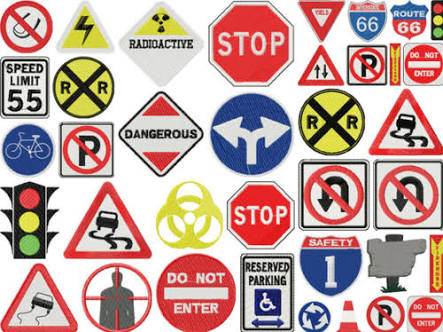55mph: (4, 62, 47, 115)
66mph: (345, 1, 386, 37)
danger: (120, 92, 204, 170)
no parking: (55, 121, 118, 178), (343, 44, 386, 80)
radioactive: (120, 9, 198, 78)
slippery road: (69, 188, 147, 256)
slow down: (237, 250, 298, 332), (1, 121, 51, 182)
stop: (157, 256, 235, 332)
stop sign: (202, 1, 298, 88), (225, 184, 294, 246)
